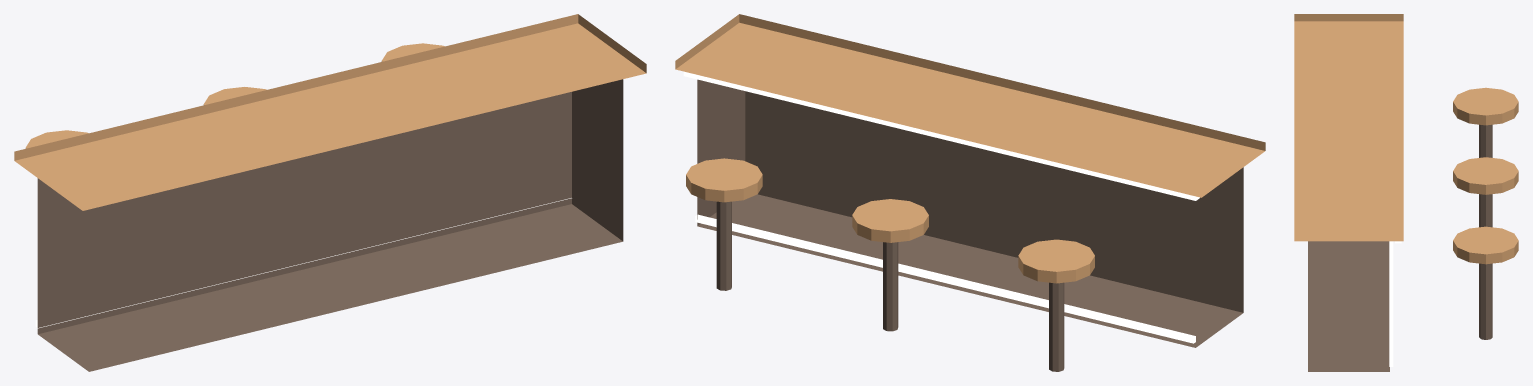
Rendered from bar.glb.
3 renders of one model, left to right at view 1: azimuth 30°, elevation 25°; view 2: azimuth 150°, elevation 25°; view 3: azimuth 270°, elevation 25°, orthographic. The views are drawn at different scales.
Parts seen in each view (by area): view 1: wood, top, glow; view 2: wood, top, glow; view 3: top, wood, glow.
Boxes of the visible parts, <box> form: wood: <box>37,79,623,371</box>; top: <box>14,14,646,210</box>; glow: <box>35,198,571,328</box>; wood: <box>697,79,1243,371</box>; top: <box>675,14,1265,283</box>; glow: <box>683,71,1199,343</box>; top: <box>1294,14,1518,264</box>; wood: <box>1308,124,1492,371</box>; glow: <box>1389,241,1401,366</box>.
Size of the model in its own units: 3.8 by 1.16 by 1.64.
